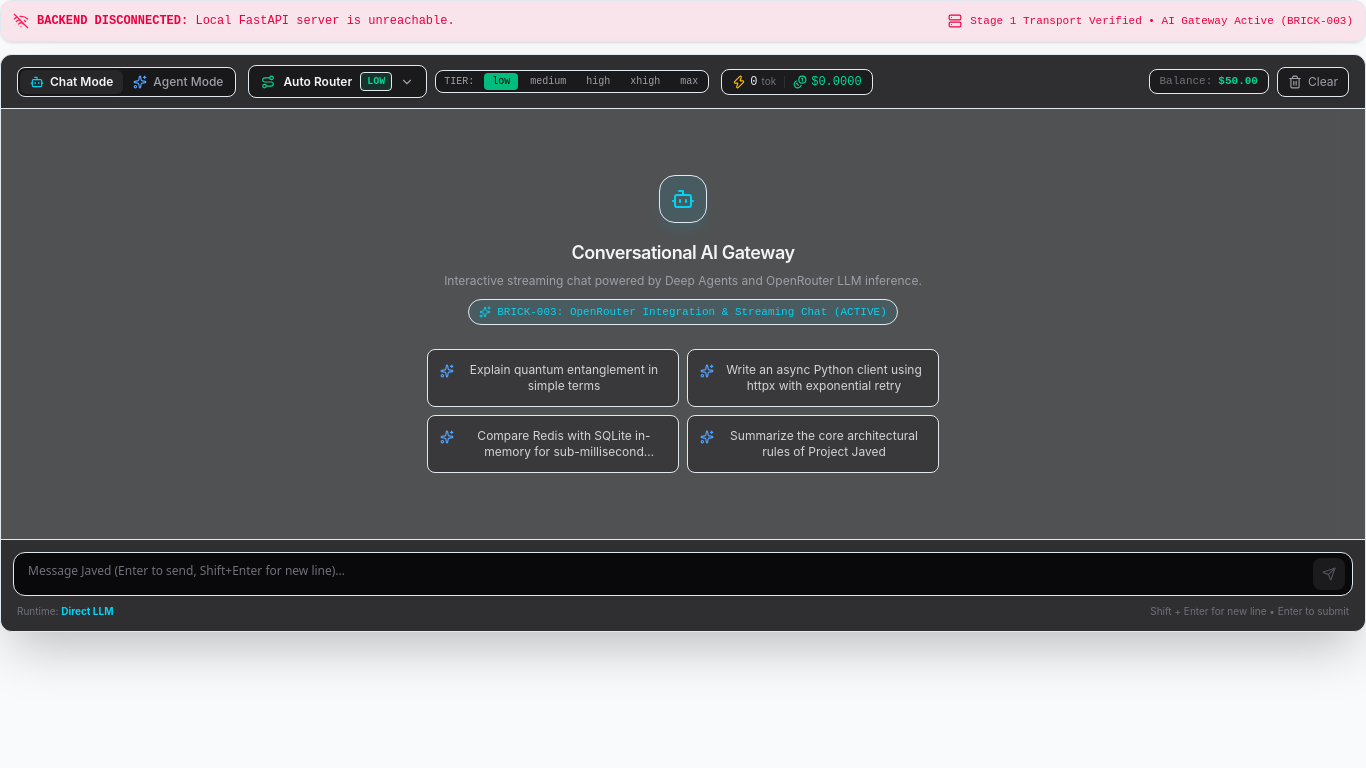
ChatView Agent Mode Integration › switches between Chat Mode and Agent Mode cleanly
Expected: the heading "Conversational AI Gateway" is shown, [571, 239, 795, 267]
Expected: the button "Chat Mode" is shown, [20, 70, 123, 94]
Click the button with test id "mode-toggle-agent".
click(178, 82)  # box [123, 70, 233, 94]
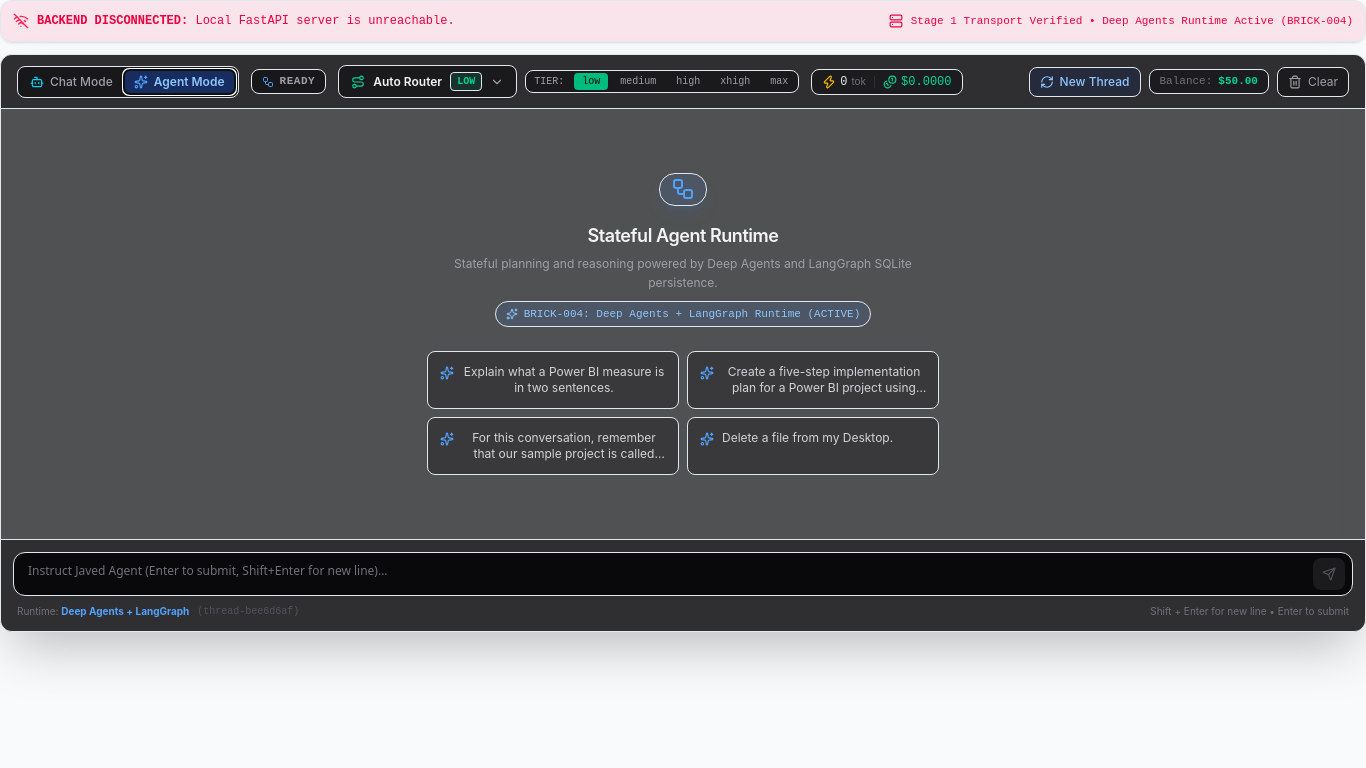
Expected: the heading "Stateful Agent Runtime" is shown, [588, 222, 778, 250]
Expected: the text "BRICK-004: Deep Agents + LangGraph Runtime (ACTIVE)" is shown, [524, 306, 860, 322]
Expected: the element with test id "agent-status-badge" is shown, [250, 69, 326, 94]
